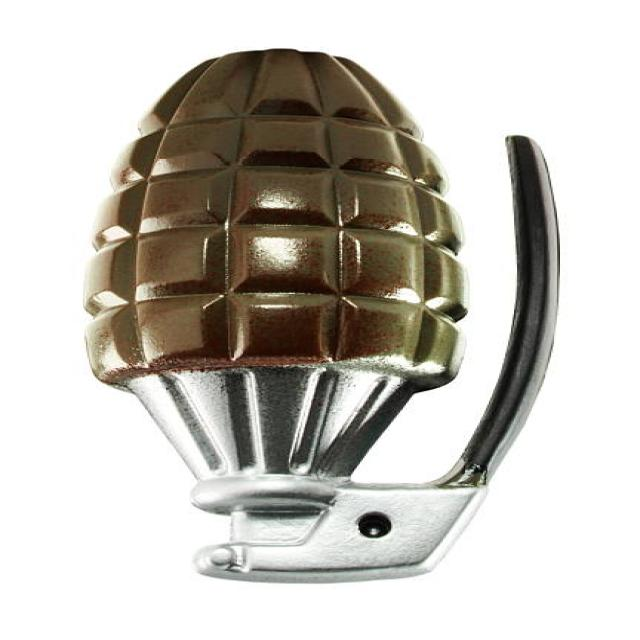grenade: (69, 44, 585, 591)
